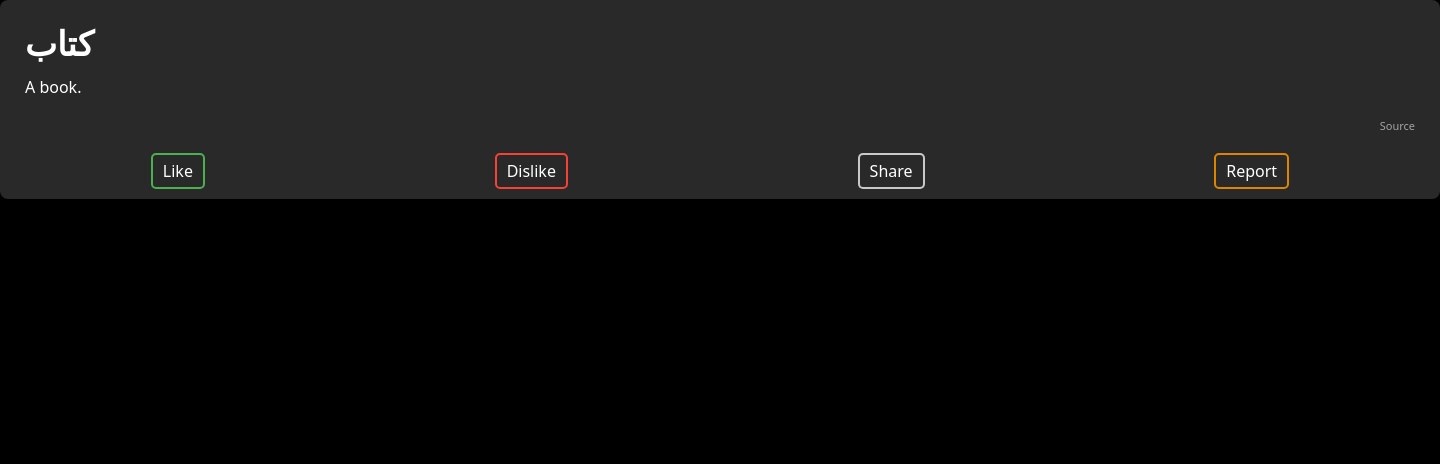
source credits › uses neutral website labels in the source panel and exported credits
Click the heading "Source" at (1397,125), box [1380,113,1415,137]
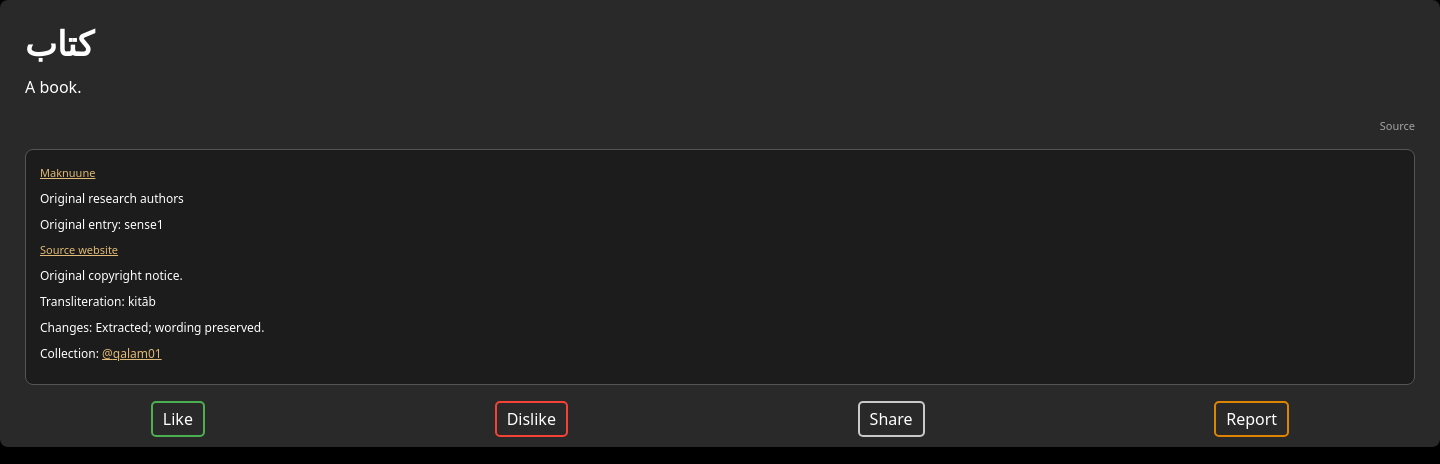
Expected: the text "Source website" is shown, [40,242,118,257]
Expected: the text "Original copyright notice." is shown, [40,267,183,284]
